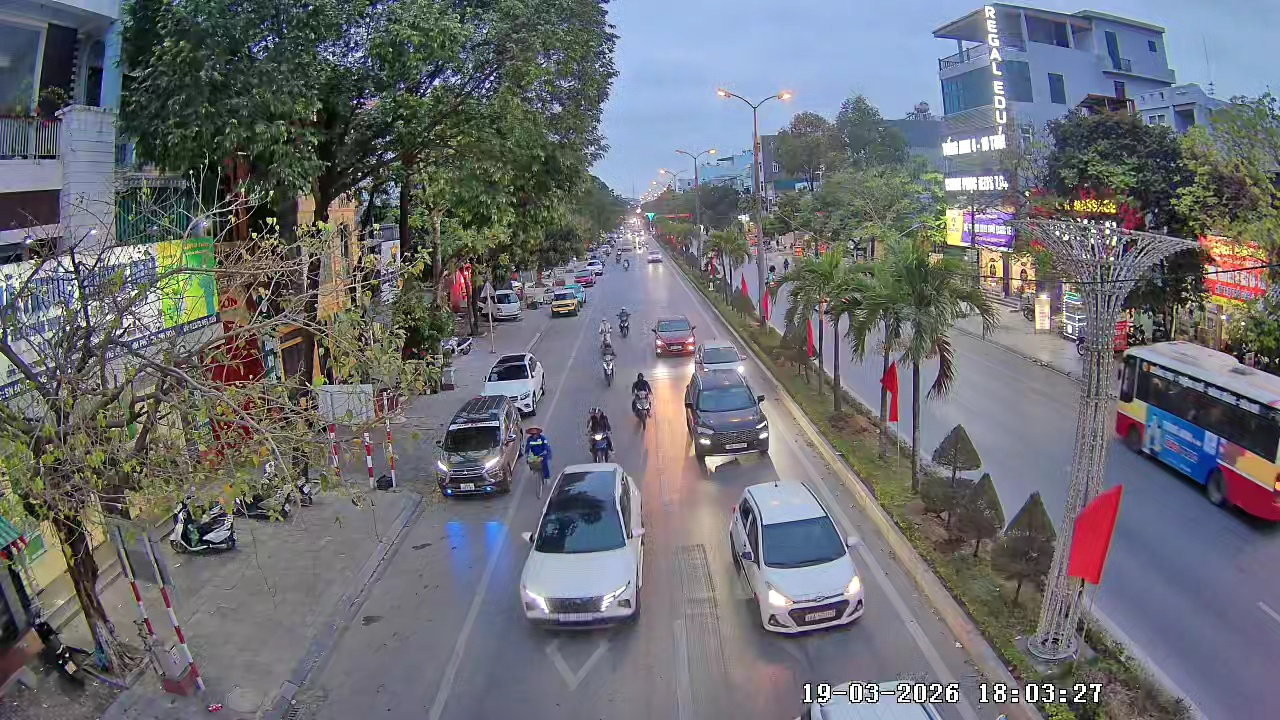bike: (929, 350, 955, 400)
bus: (1113, 339, 1279, 528)
car: (520, 461, 647, 637), (727, 481, 866, 635), (683, 372, 771, 477), (434, 398, 523, 499), (482, 351, 546, 417), (690, 339, 744, 388), (650, 314, 699, 356), (549, 285, 585, 317)
motorbike: (167, 497, 239, 556), (522, 424, 554, 488), (582, 403, 615, 463), (629, 369, 654, 427), (599, 338, 618, 386), (596, 316, 615, 352), (616, 304, 633, 338)
